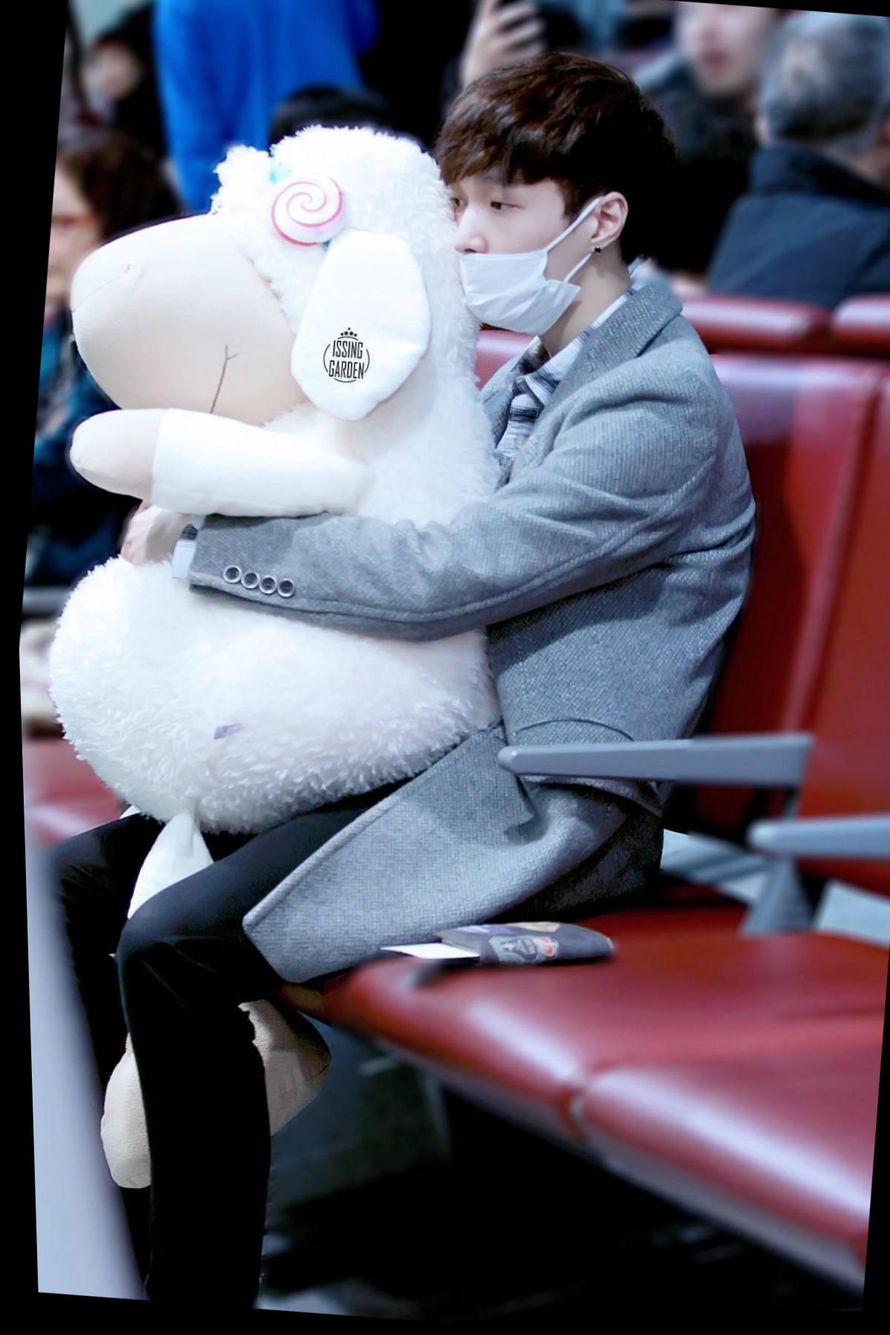WRONG: (435, 173, 572, 346)
